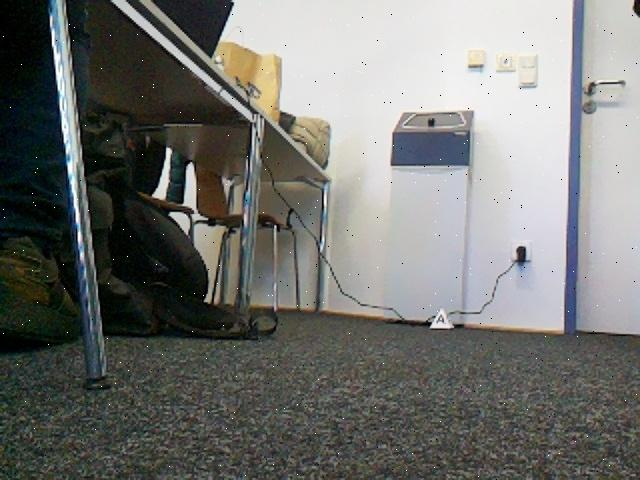A: (430, 309, 454, 328)
